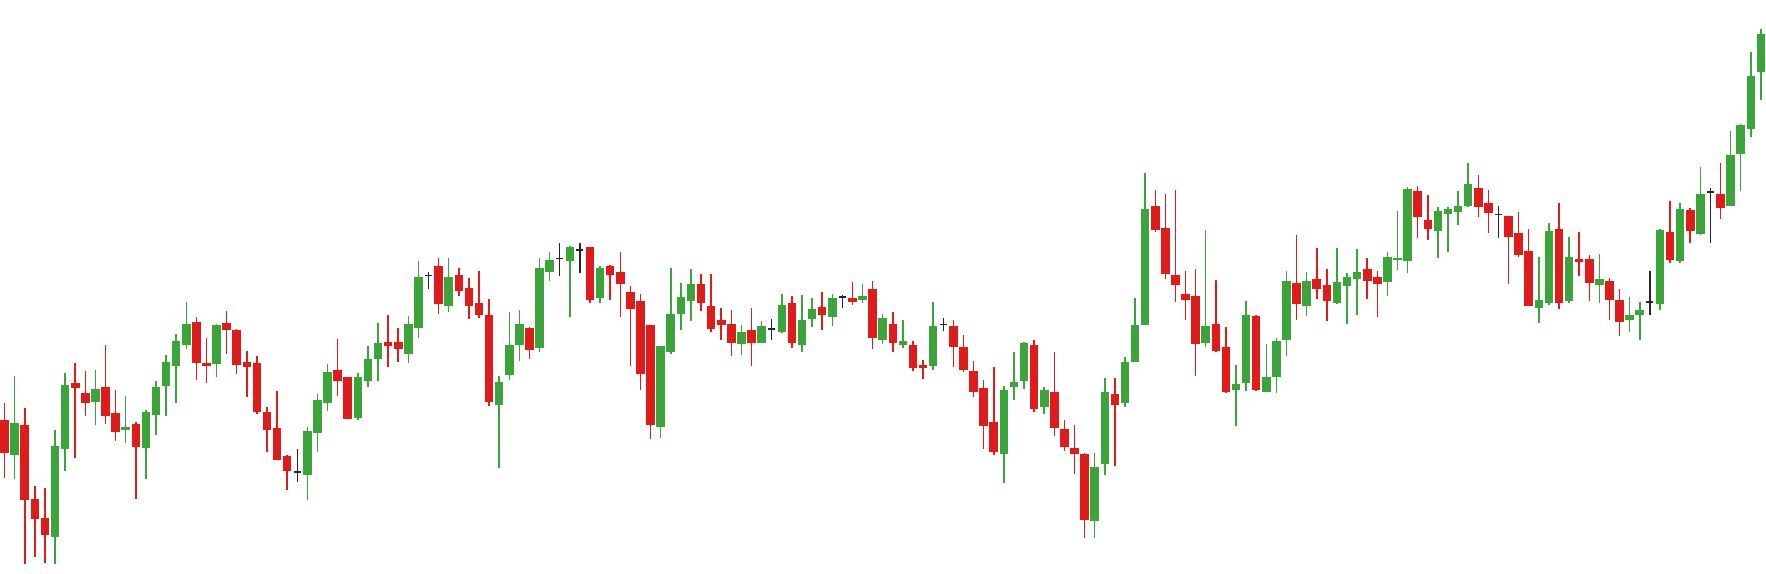buy: (344, 304, 505, 478), (141, 368, 316, 500), (998, 371, 1103, 542)
